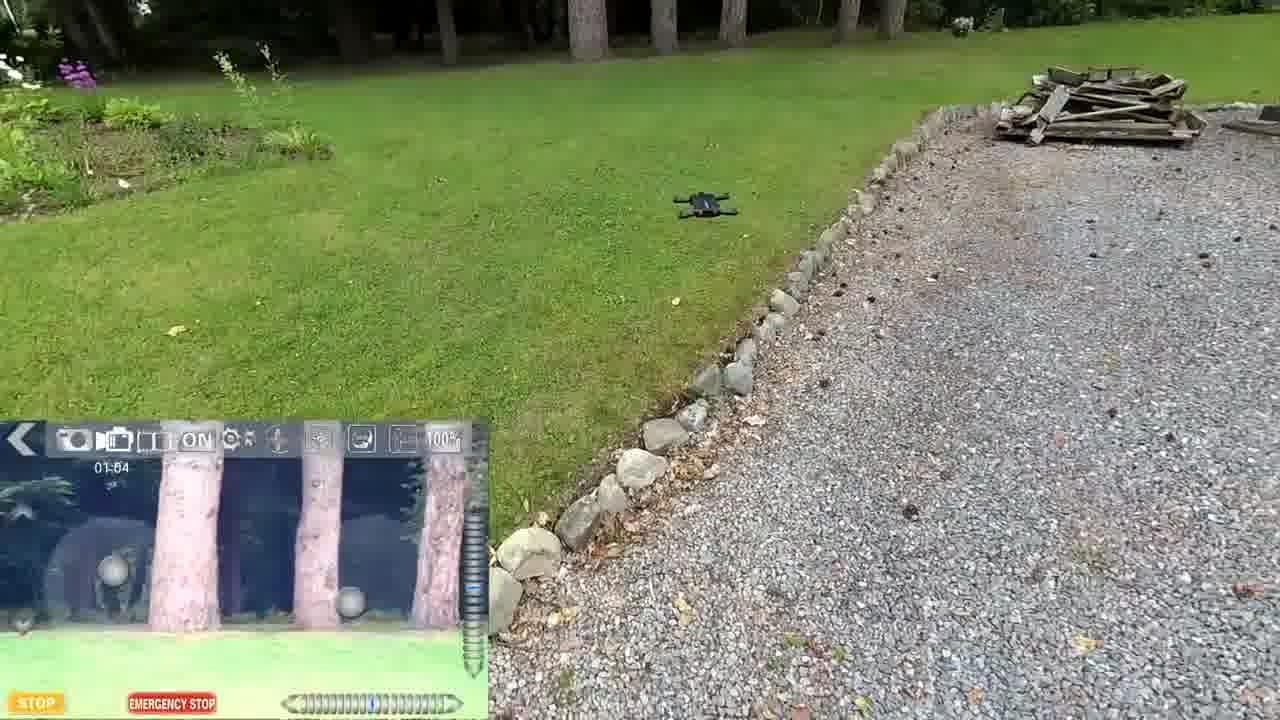drone: (670, 188, 739, 219)
